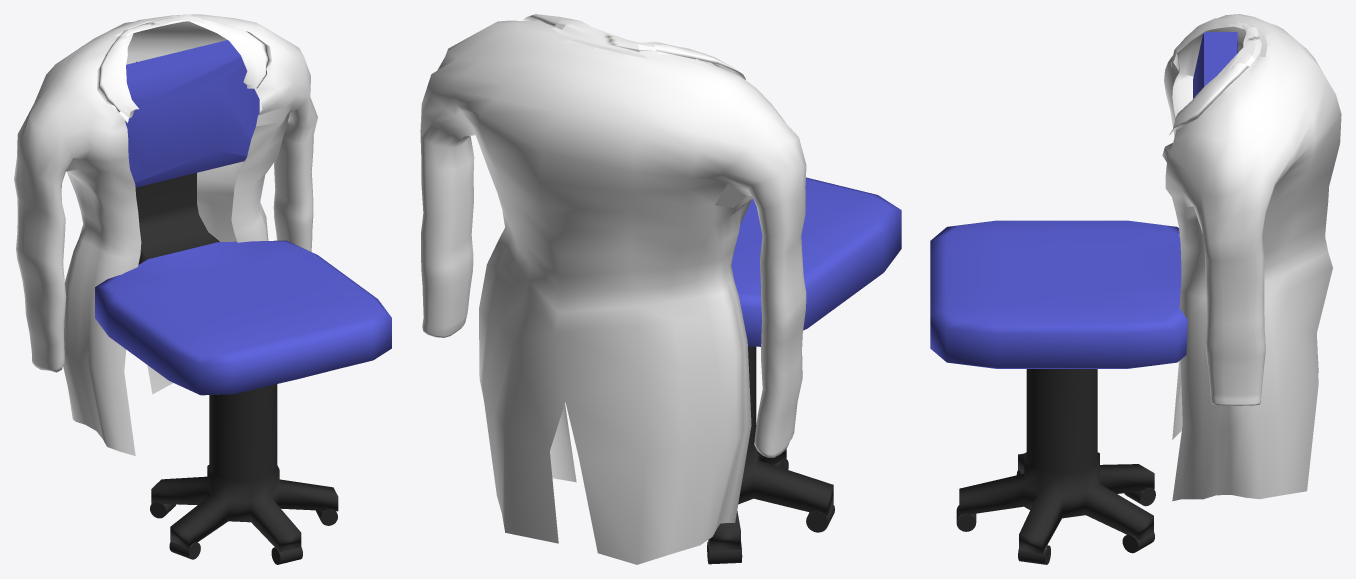
Rendered from Chair_Hukutuki.fbx.
3 renders of one model, left to right at view 1: azimuth 30°, elevation 25°; view 2: azimuth 150°, elevation 25°; view 3: azimuth 270°, elevation 25°, orthographic. The views are drawn at different scales.
Parts seen in each view (by area): view 1: polySurface17; view 2: polySurface17; view 3: polySurface17.
Boxes of the visible parts, x1,y1,x2,y2 form: polySurface17: [14, 14, 391, 564]; polySurface17: [420, 14, 901, 564]; polySurface17: [930, 14, 1341, 564].
Bounding box in the file's own units: 558 × 820 × 629.
Materials: 3 (3 with a texture image).
